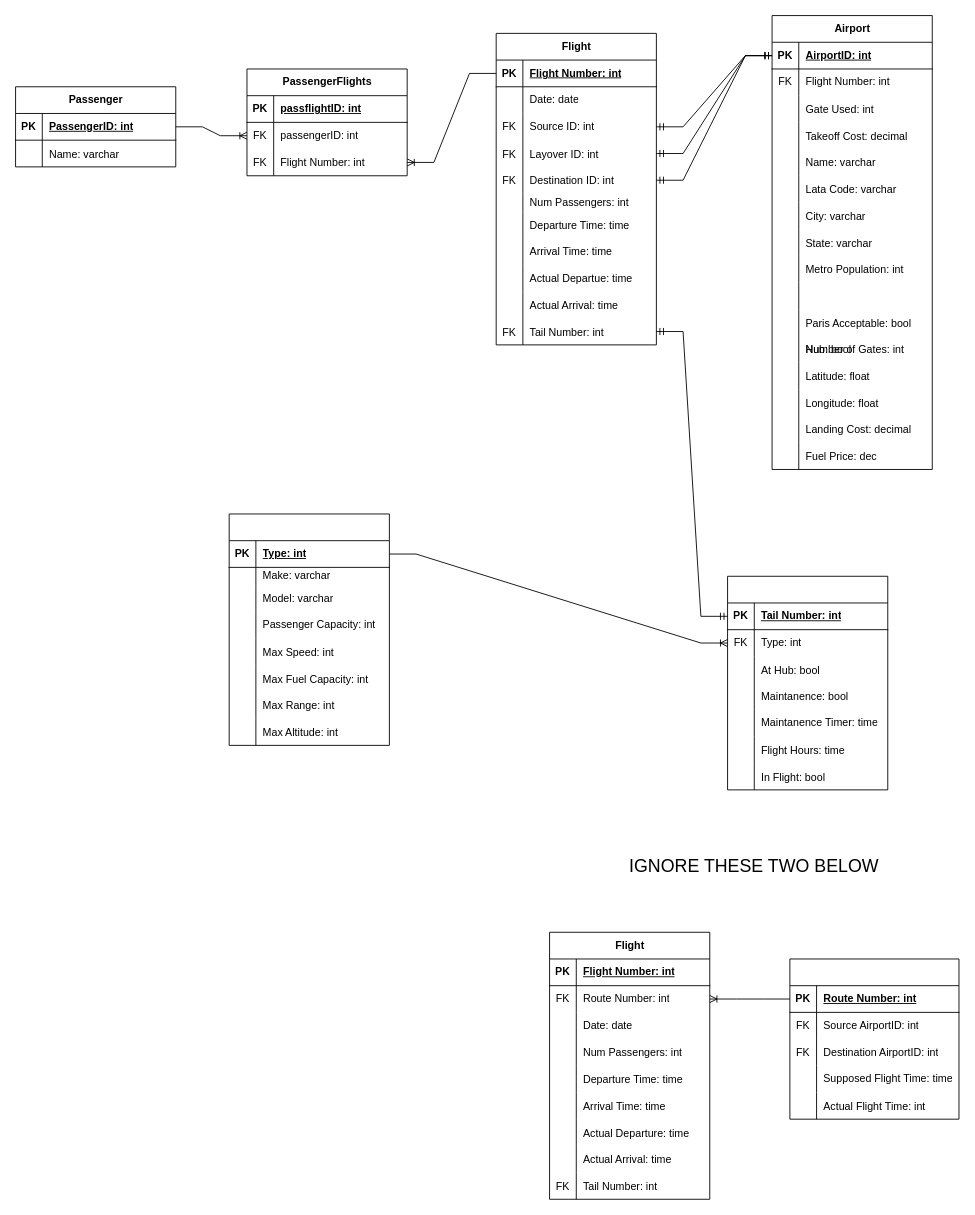
The diagram is 975 pixels wide and 1215 high, and some of its shapes have lost their labels. Each missing label, with the box of its shape:
Aircraft: (727, 575, 888, 790)
AircraftType: (228, 513, 389, 745)
Flight Route: (789, 958, 959, 1119)
